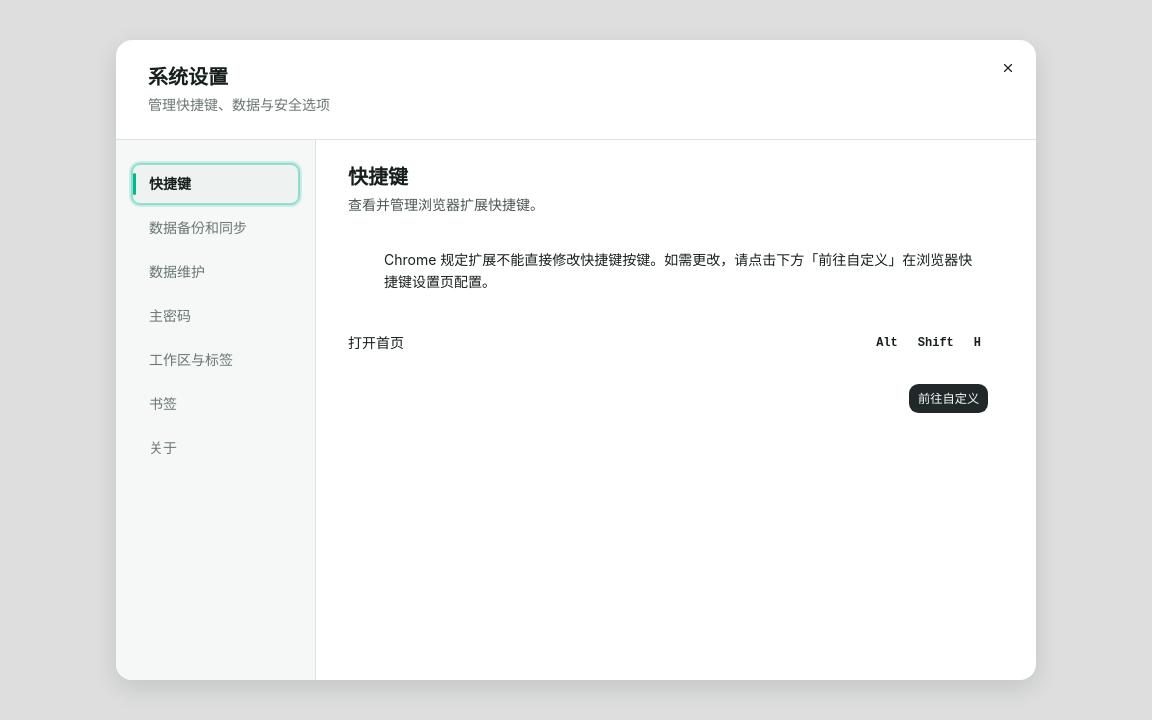
Test case: SettingsModal（系统设置中心） › 导航含「书签」分区，点击后展示 Tag 筛选记忆范围 RadioGroup
This screenshot has width=1152, height=720.
Expected: the button "前往自定义" is shown, [908,383,989,414]
Step 1. Click the tab "书签" → (216, 404), box [132,384,299,424]
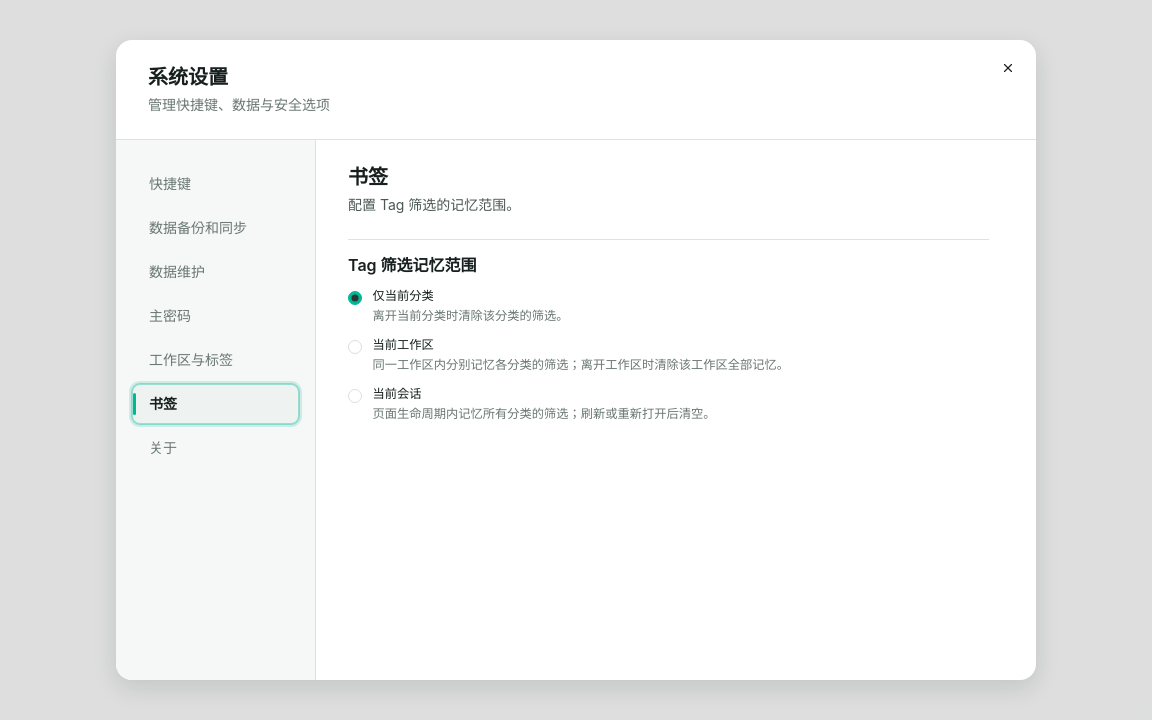
Expected: the heading "书签" is shown, [348,165,388,189]
Expected: the radio button named "仅当前分类" next to "仅当前分类" is checked, [348,291,362,305]
Expected: the radio button named "当前工作区" next to "当前工作区" is not checked, [348,340,362,354]
